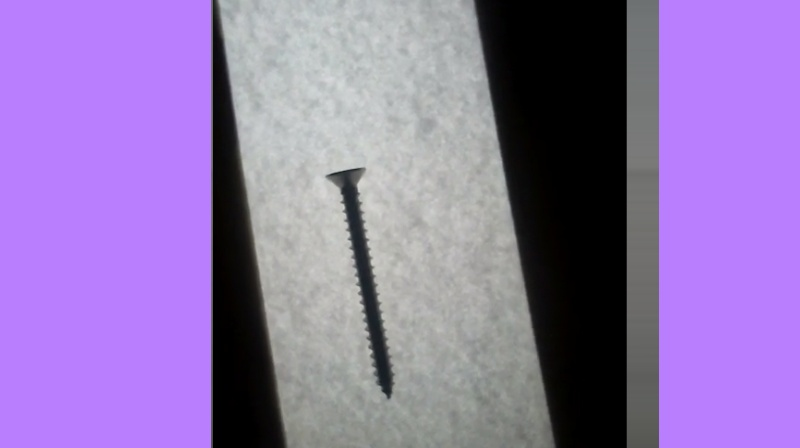S002: (324, 163, 397, 402)
